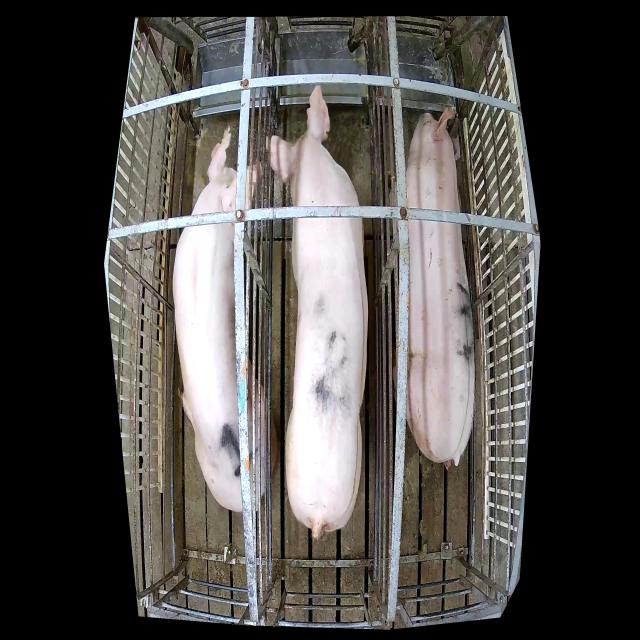pig: (266, 87, 368, 540), (172, 127, 277, 509), (389, 106, 475, 470)
